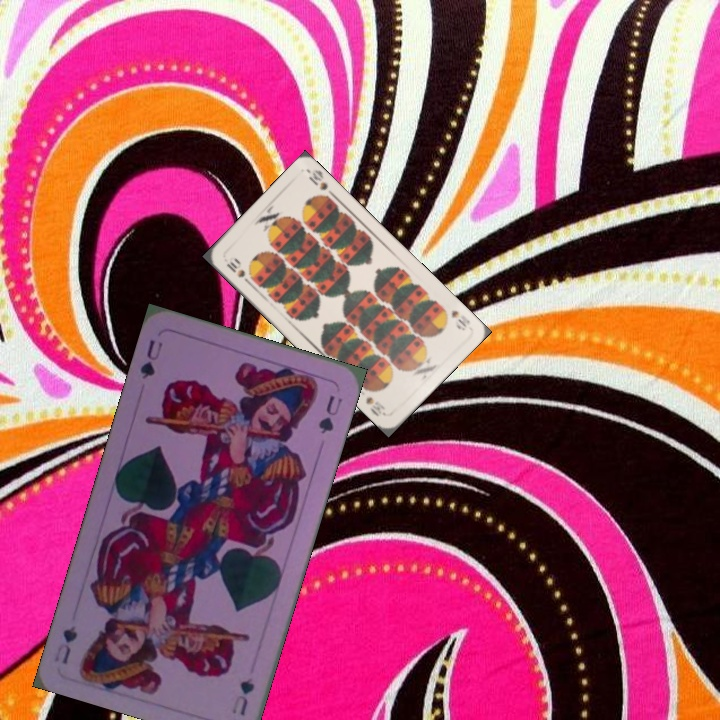GU: (135, 335, 166, 382), (227, 673, 257, 719)
S10: (437, 302, 473, 333), (222, 254, 253, 286)
